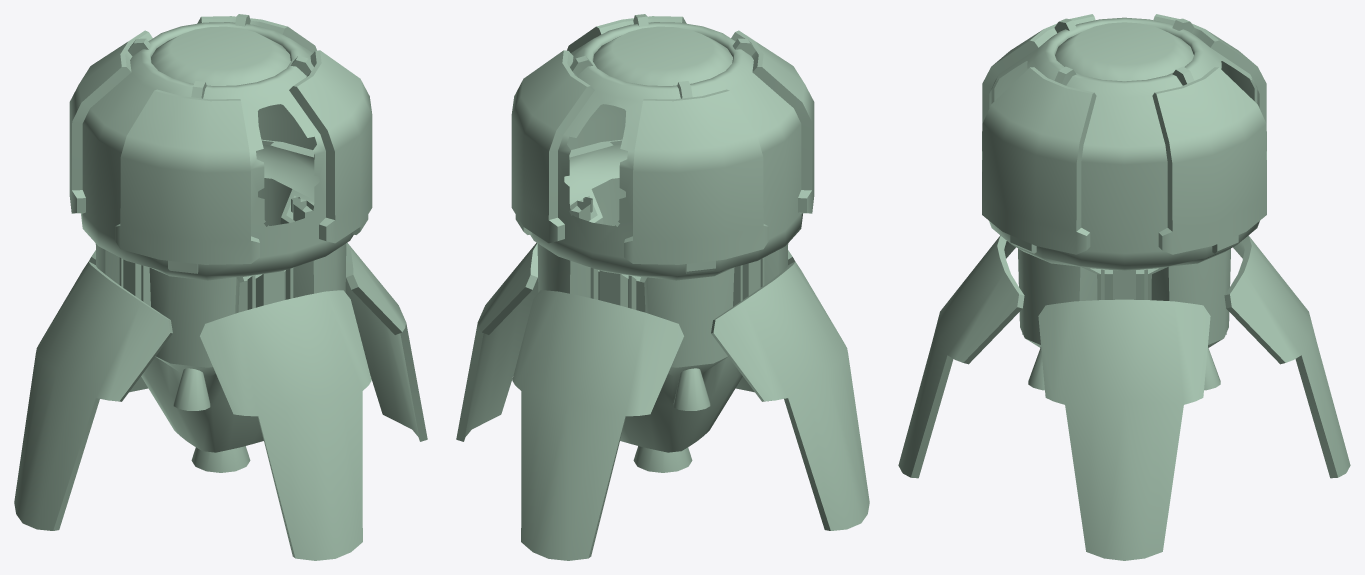
File: REENTRY_CRAFT_static_open_holes_LOD.fbx
3 renders of one model, left to right at view 1: azimuth 30°, elevation 25°; view 2: azimuth 150°, elevation 25°; view 3: azimuth 270°, elevation 25°, orthographic.
Parts seen in each view (by area): view 1: EPOD_static_open_holes_LOD1_GEO; view 2: EPOD_static_open_holes_LOD1_GEO; view 3: EPOD_static_open_holes_LOD1_GEO.
Part boxes in pixels (bbox=[...]): EPOD_static_open_holes_LOD1_GEO: bbox=[14, 14, 427, 560]; EPOD_static_open_holes_LOD1_GEO: bbox=[456, 14, 869, 560]; EPOD_static_open_holes_LOD1_GEO: bbox=[898, 14, 1350, 560].
Bounding box in the file's own units: 9.39 × 9.69 × 9.39.
